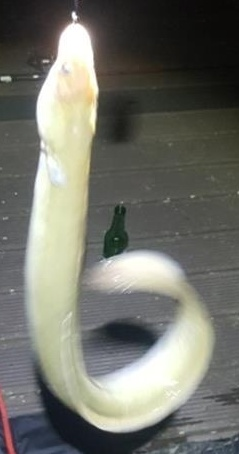Anguilla anguilla: (20, 20, 219, 434)
